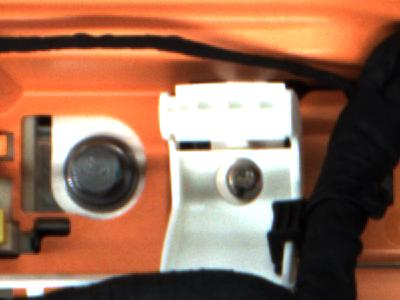nut_b: (60, 133, 151, 216)
